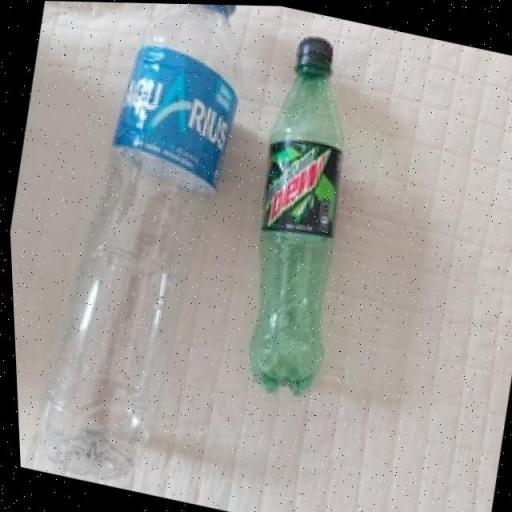plastic: (27, 3, 243, 480), (248, 37, 342, 397)
